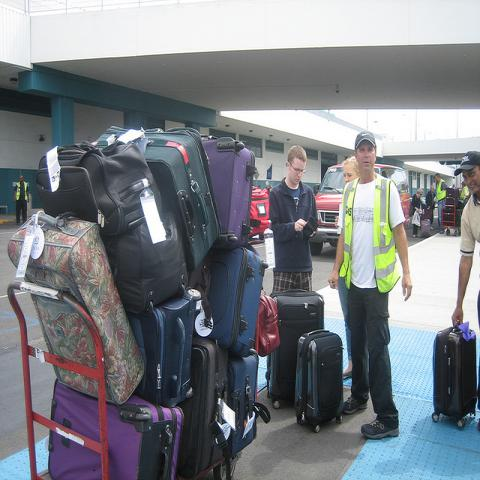car: (309, 163, 410, 257)
truck: (309, 164, 412, 255)
